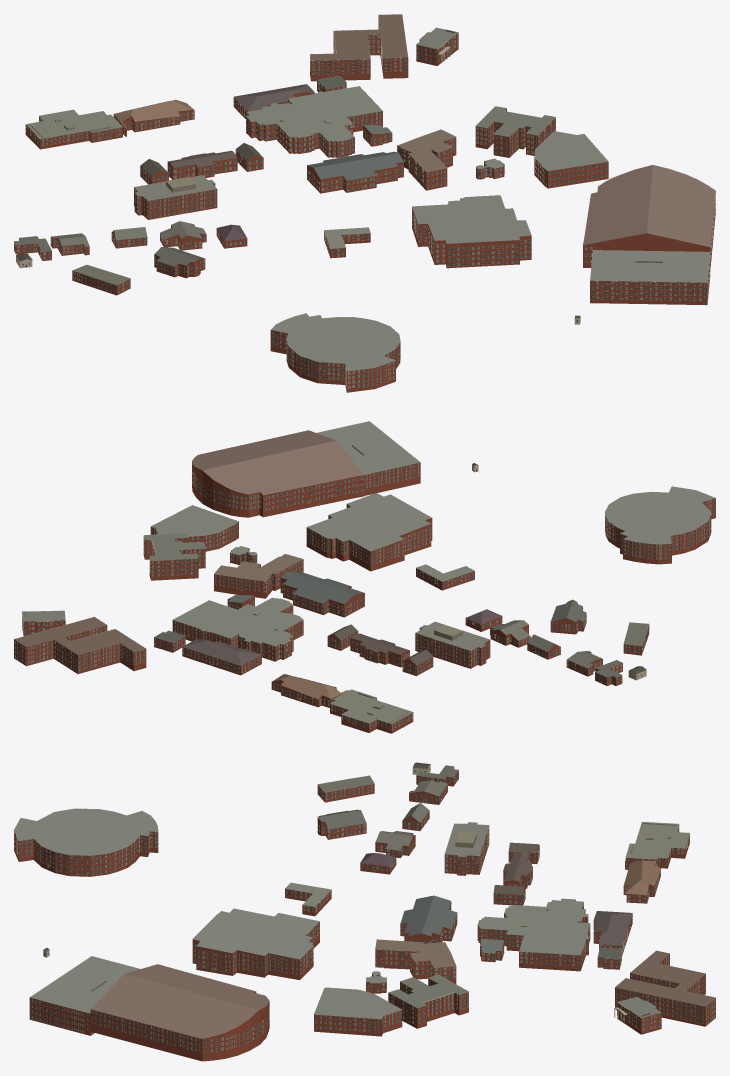
3 renders of one model, top to bottom at view 1: azimuth 30°, elevation 25°; view 2: azimuth 150°, elevation 25°; view 3: azimuth 270°, elevation 25°, orthographic. The views are drawn at different scales.
Visible parts, largest first — view 1: -4_0_135662222_0; view 2: -4_0_135662222_0; view 3: -4_0_135662222_0.
Part boxes in pixels (x1=…): -4_0_135662222_0: x1=14, y1=14, x2=715, y2=392; -4_0_135662222_0: x1=14, y1=421, x2=715, y2=733; -4_0_135662222_0: x1=14, y1=762, x2=715, y2=1061.
Size of the model in its own units: 532 by 34.64 by 557.
